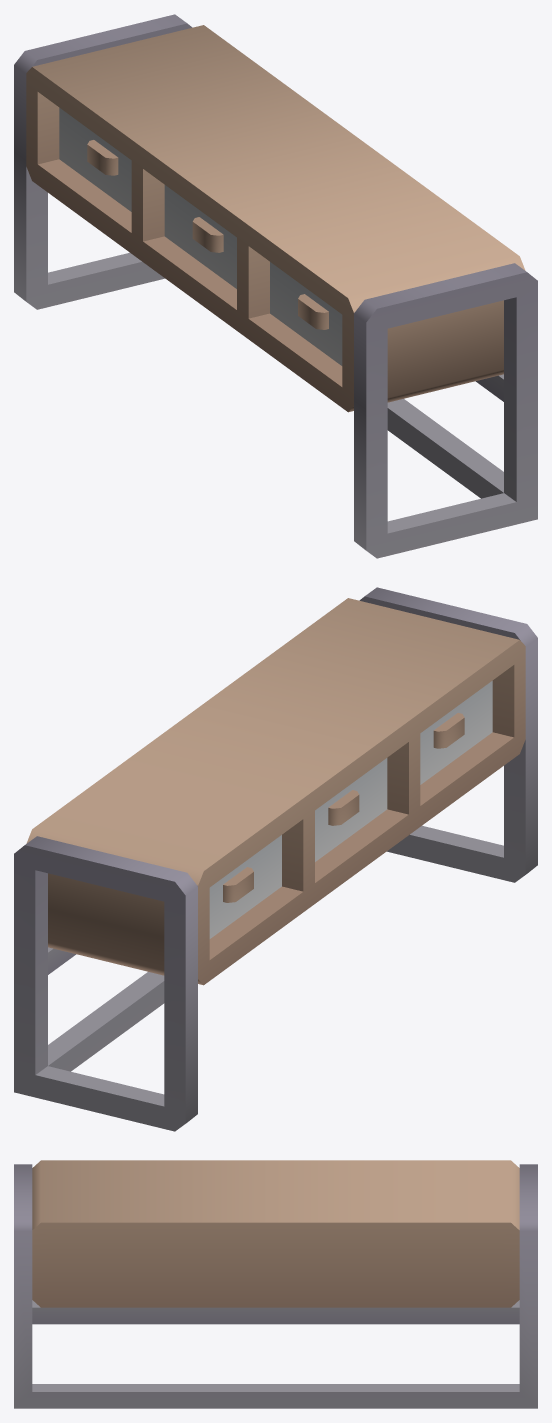
Rendered from sidetable-drawers-frame-sides-wide.glb.
The picture shows the model from 3 angles, top to bottom: view 1: azimuth 30°, elevation 25°; view 2: azimuth 150°, elevation 25°; view 3: azimuth 270°, elevation 25°; orthographic projection. The views are drawn at different scales.
Parts seen in each view (by area): view 1: sidetable-drawers-frame-sides-wide; view 2: sidetable-drawers-frame-sides-wide; view 3: sidetable-drawers-frame-sides-wide.
Part boxes in pixels (box(x1,y1,x2,y2)): sidetable-drawers-frame-sides-wide: box(14, 14, 537, 558); sidetable-drawers-frame-sides-wide: box(14, 587, 537, 1131); sidetable-drawers-frame-sides-wide: box(14, 1160, 537, 1408).
Size of the model in its own units: 0.4 by 0.556 by 1.42.
